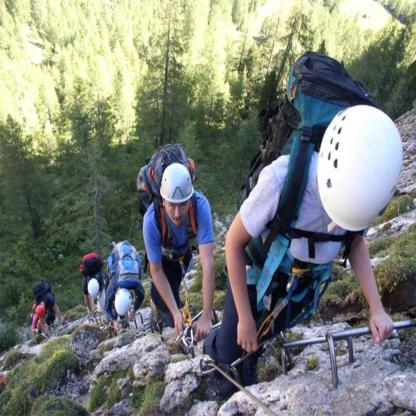Helmet: (317, 105, 404, 231), (156, 157, 192, 232), (115, 286, 135, 321), (86, 276, 98, 297), (35, 302, 44, 321)
